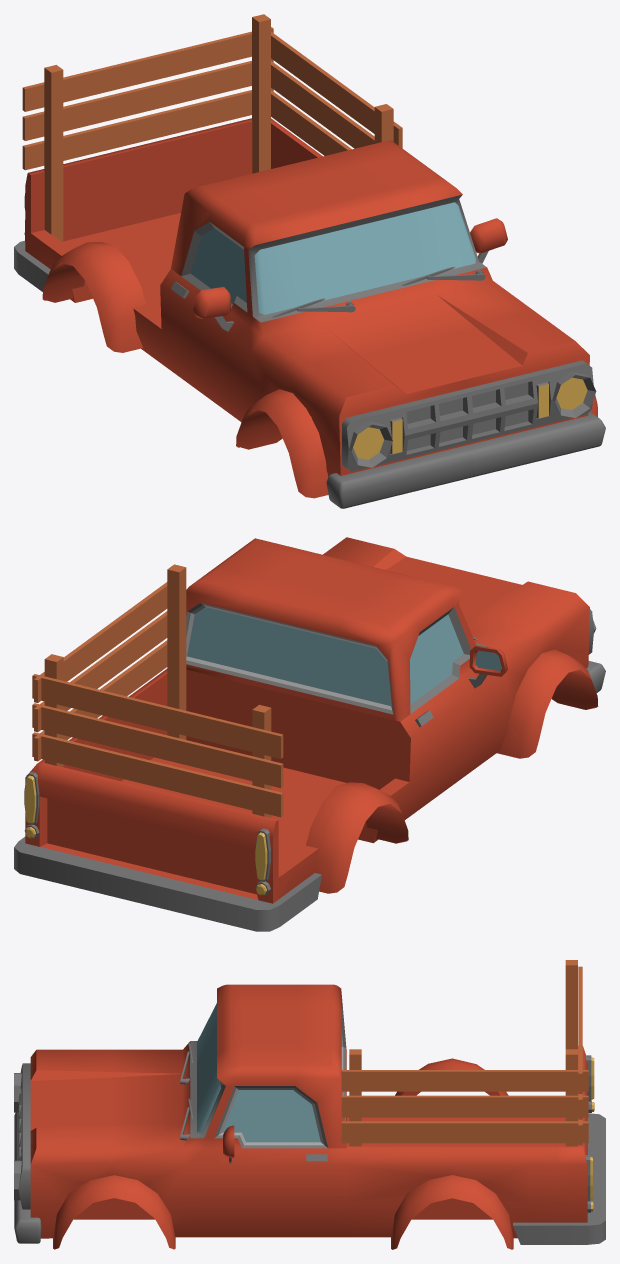
File: pickup (2).fbx
3 renders of one model, top to bottom at view 1: azimuth 30°, elevation 25°; view 2: azimuth 150°, elevation 25°; view 3: azimuth 270°, elevation 25°, orthographic. The views are drawn at different scales.
Parts seen in each view (by area): view 1: Body, Cube.008; view 2: Body, Cube.008; view 3: Body, Cube.008.
Boxes of the visible parts, x1=… form: Body: x1=14, y1=118, x2=605, y2=508; Cube.008: x1=22, y1=14, x2=402, y2=242; Body: x1=14, y1=537, x2=605, y2=931; Cube.008: x1=32, y1=564, x2=283, y2=817; Body: x1=14, y1=984, x2=605, y2=1249; Cube.008: x1=341, y1=960, x2=588, y2=1146.
Size of the model in its own units: 2.02 by 1.27 by 3.75.
